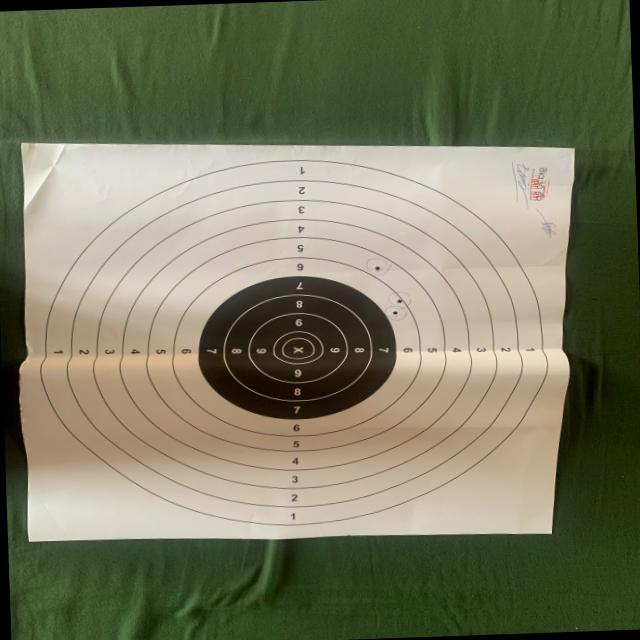bullet: (396, 297, 403, 303), (374, 265, 381, 270), (393, 310, 397, 315)
target: (19, 143, 573, 540)
